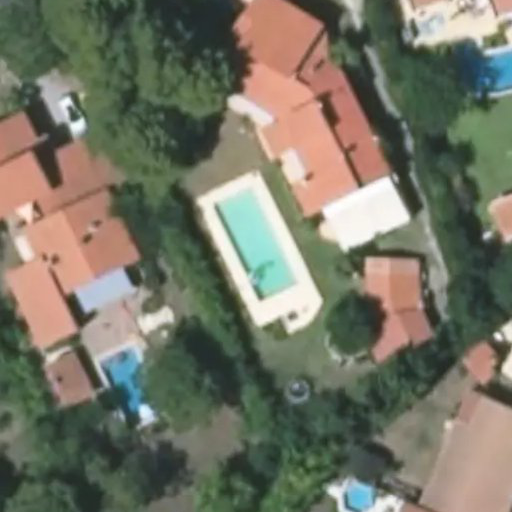pool: (212, 203, 299, 281)
